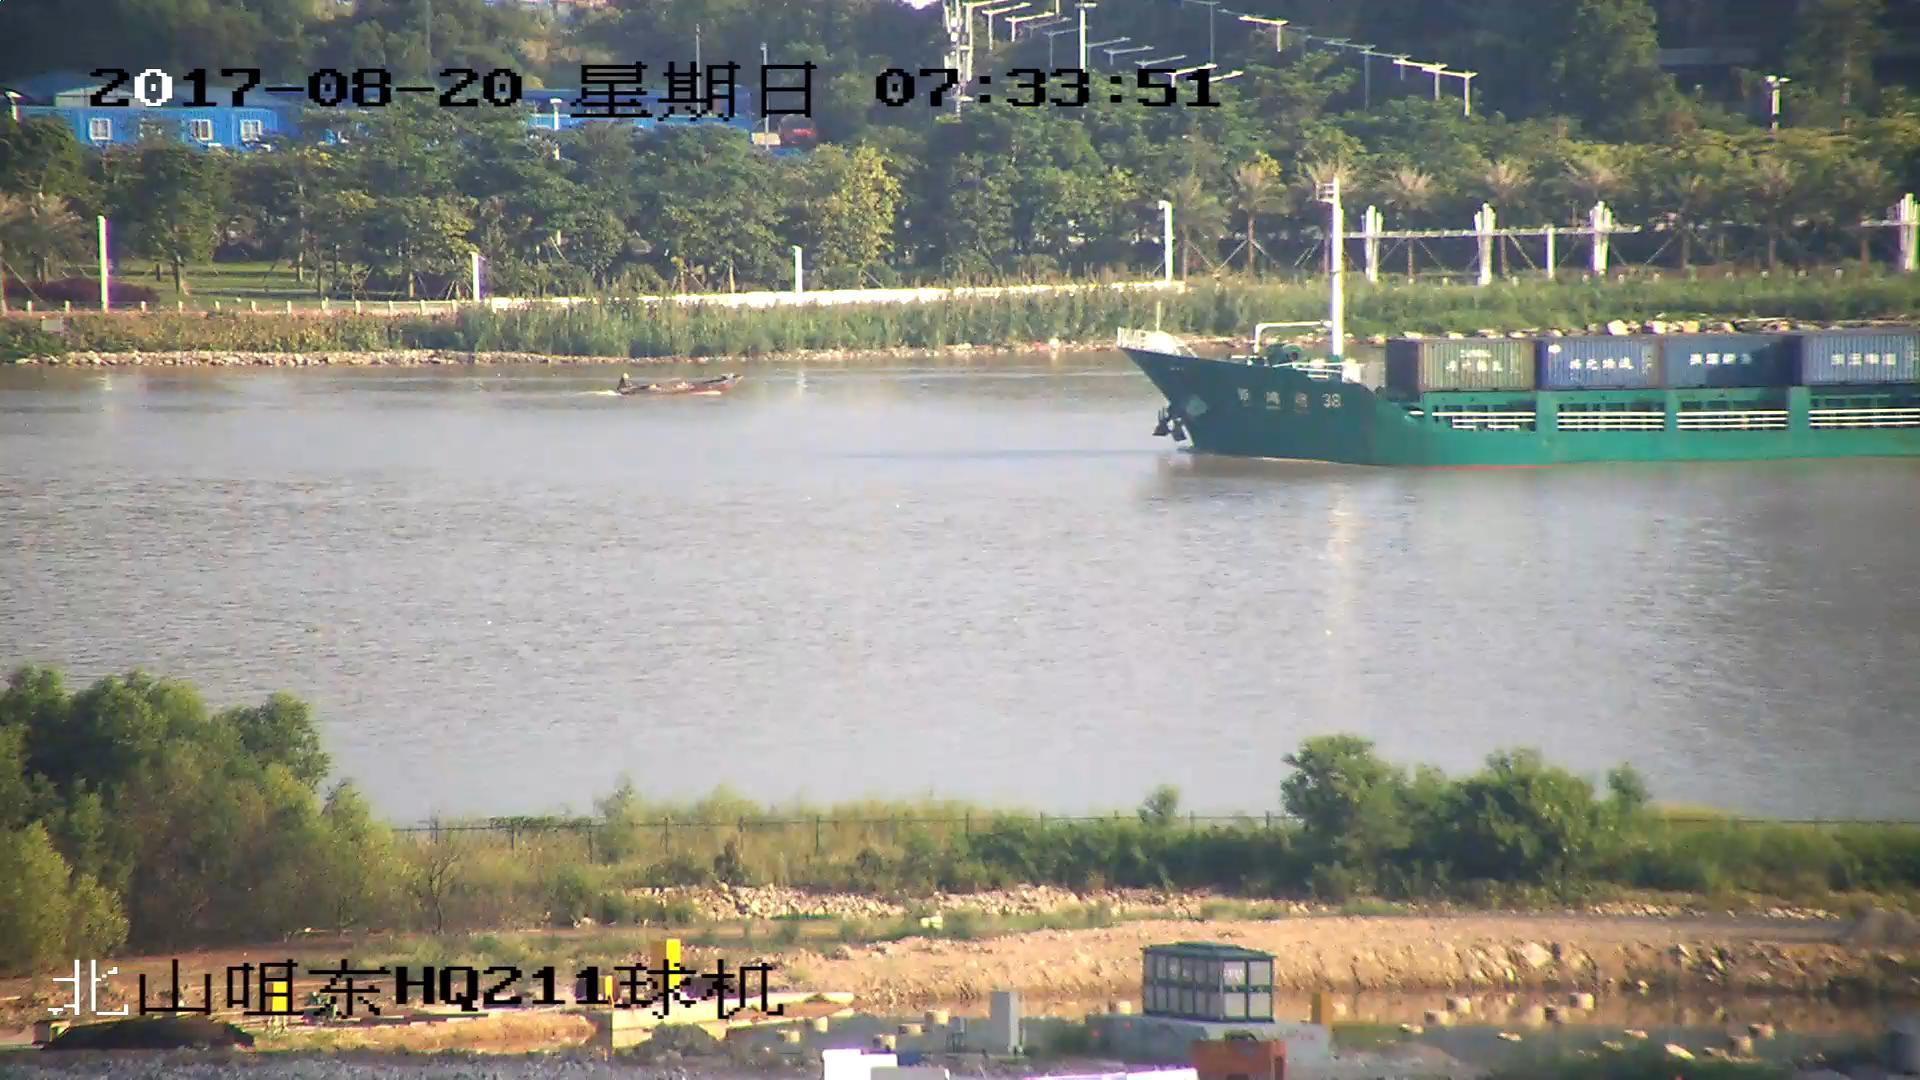Ship: (1118, 186, 1920, 465), (615, 368, 742, 402)
